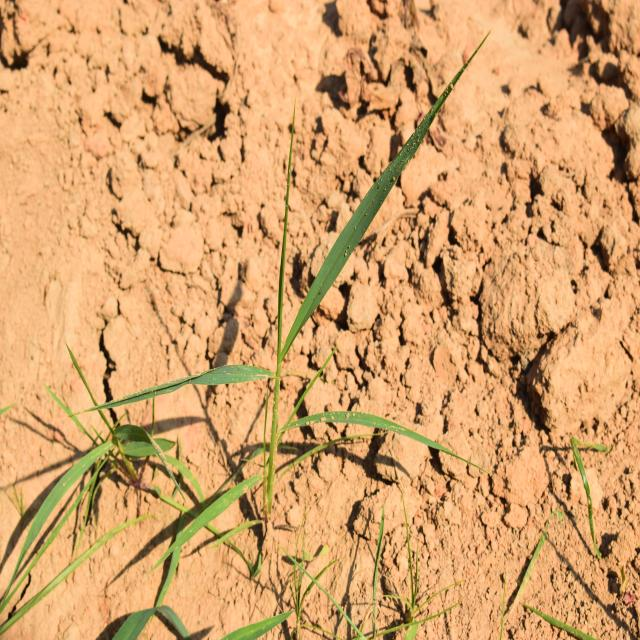green_foxtail: (145, 101, 412, 488)
